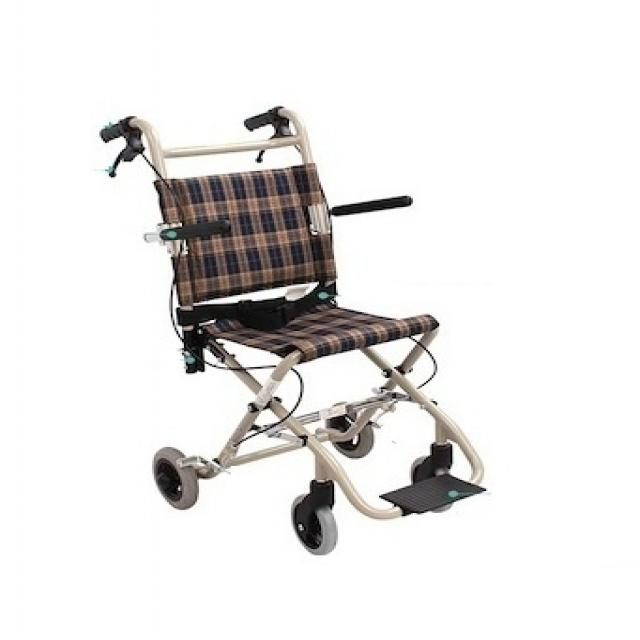wheelchair: (88, 72, 507, 572)
